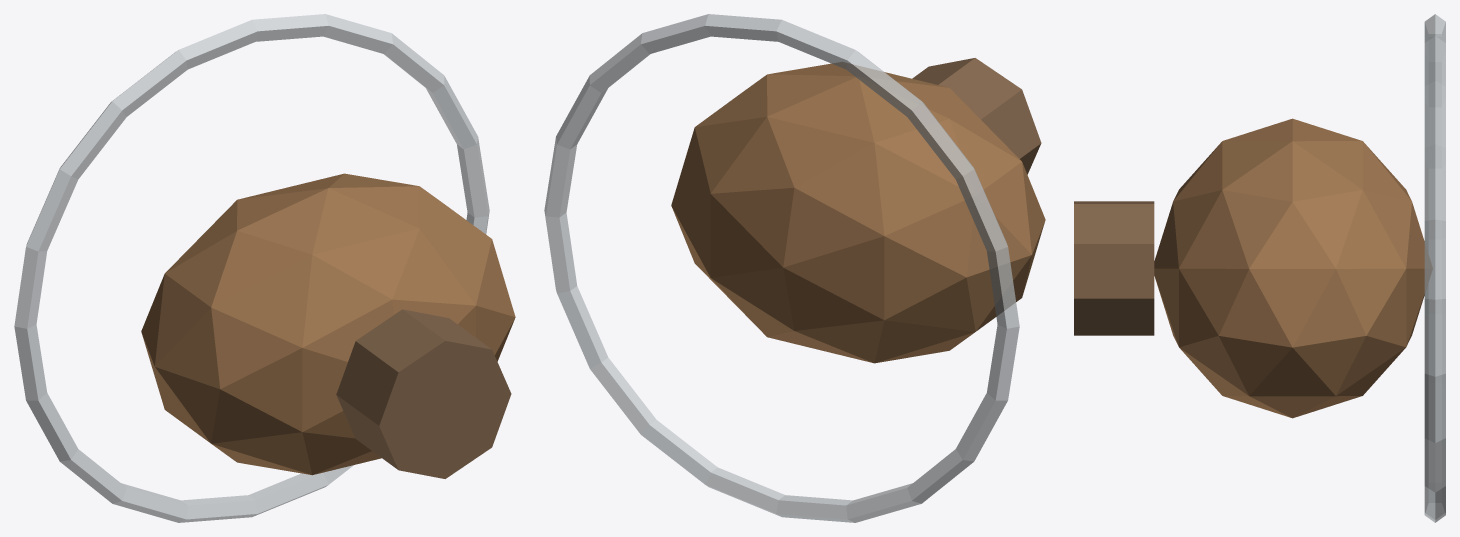
File: inventory_bag_pickup.glb
3 views of the same model, side by side, from view 1: azimuth 30°, elevation 25°; view 2: azimuth 150°, elevation 25°; view 3: azimuth 270°, elevation 25° (orthographic). The views are drawn at different scales.
Parts seen in each view (by area): view 1: bag, pickup_ring, neck_tie; view 2: bag, pickup_ring, neck_tie; view 3: bag, pickup_ring, neck_tie.
Part boxes in pixels (<box>): bag: <box>141,173,515,475</box>; pickup_ring: <box>14,14,489,522</box>; neck_tie: <box>336,309,511,478</box>; bag: <box>671,62,1045,363</box>; pickup_ring: <box>544,14,1019,522</box>; neck_tie: <box>912,58,1041,174</box>; bag: <box>1154,118,1432,418</box>; pickup_ring: <box>1424,14,1445,522</box>; neck_tie: <box>1074,201,1154,335</box>.
Bounding box in the file's own units: 1.15 × 1.15 × 0.8338.
